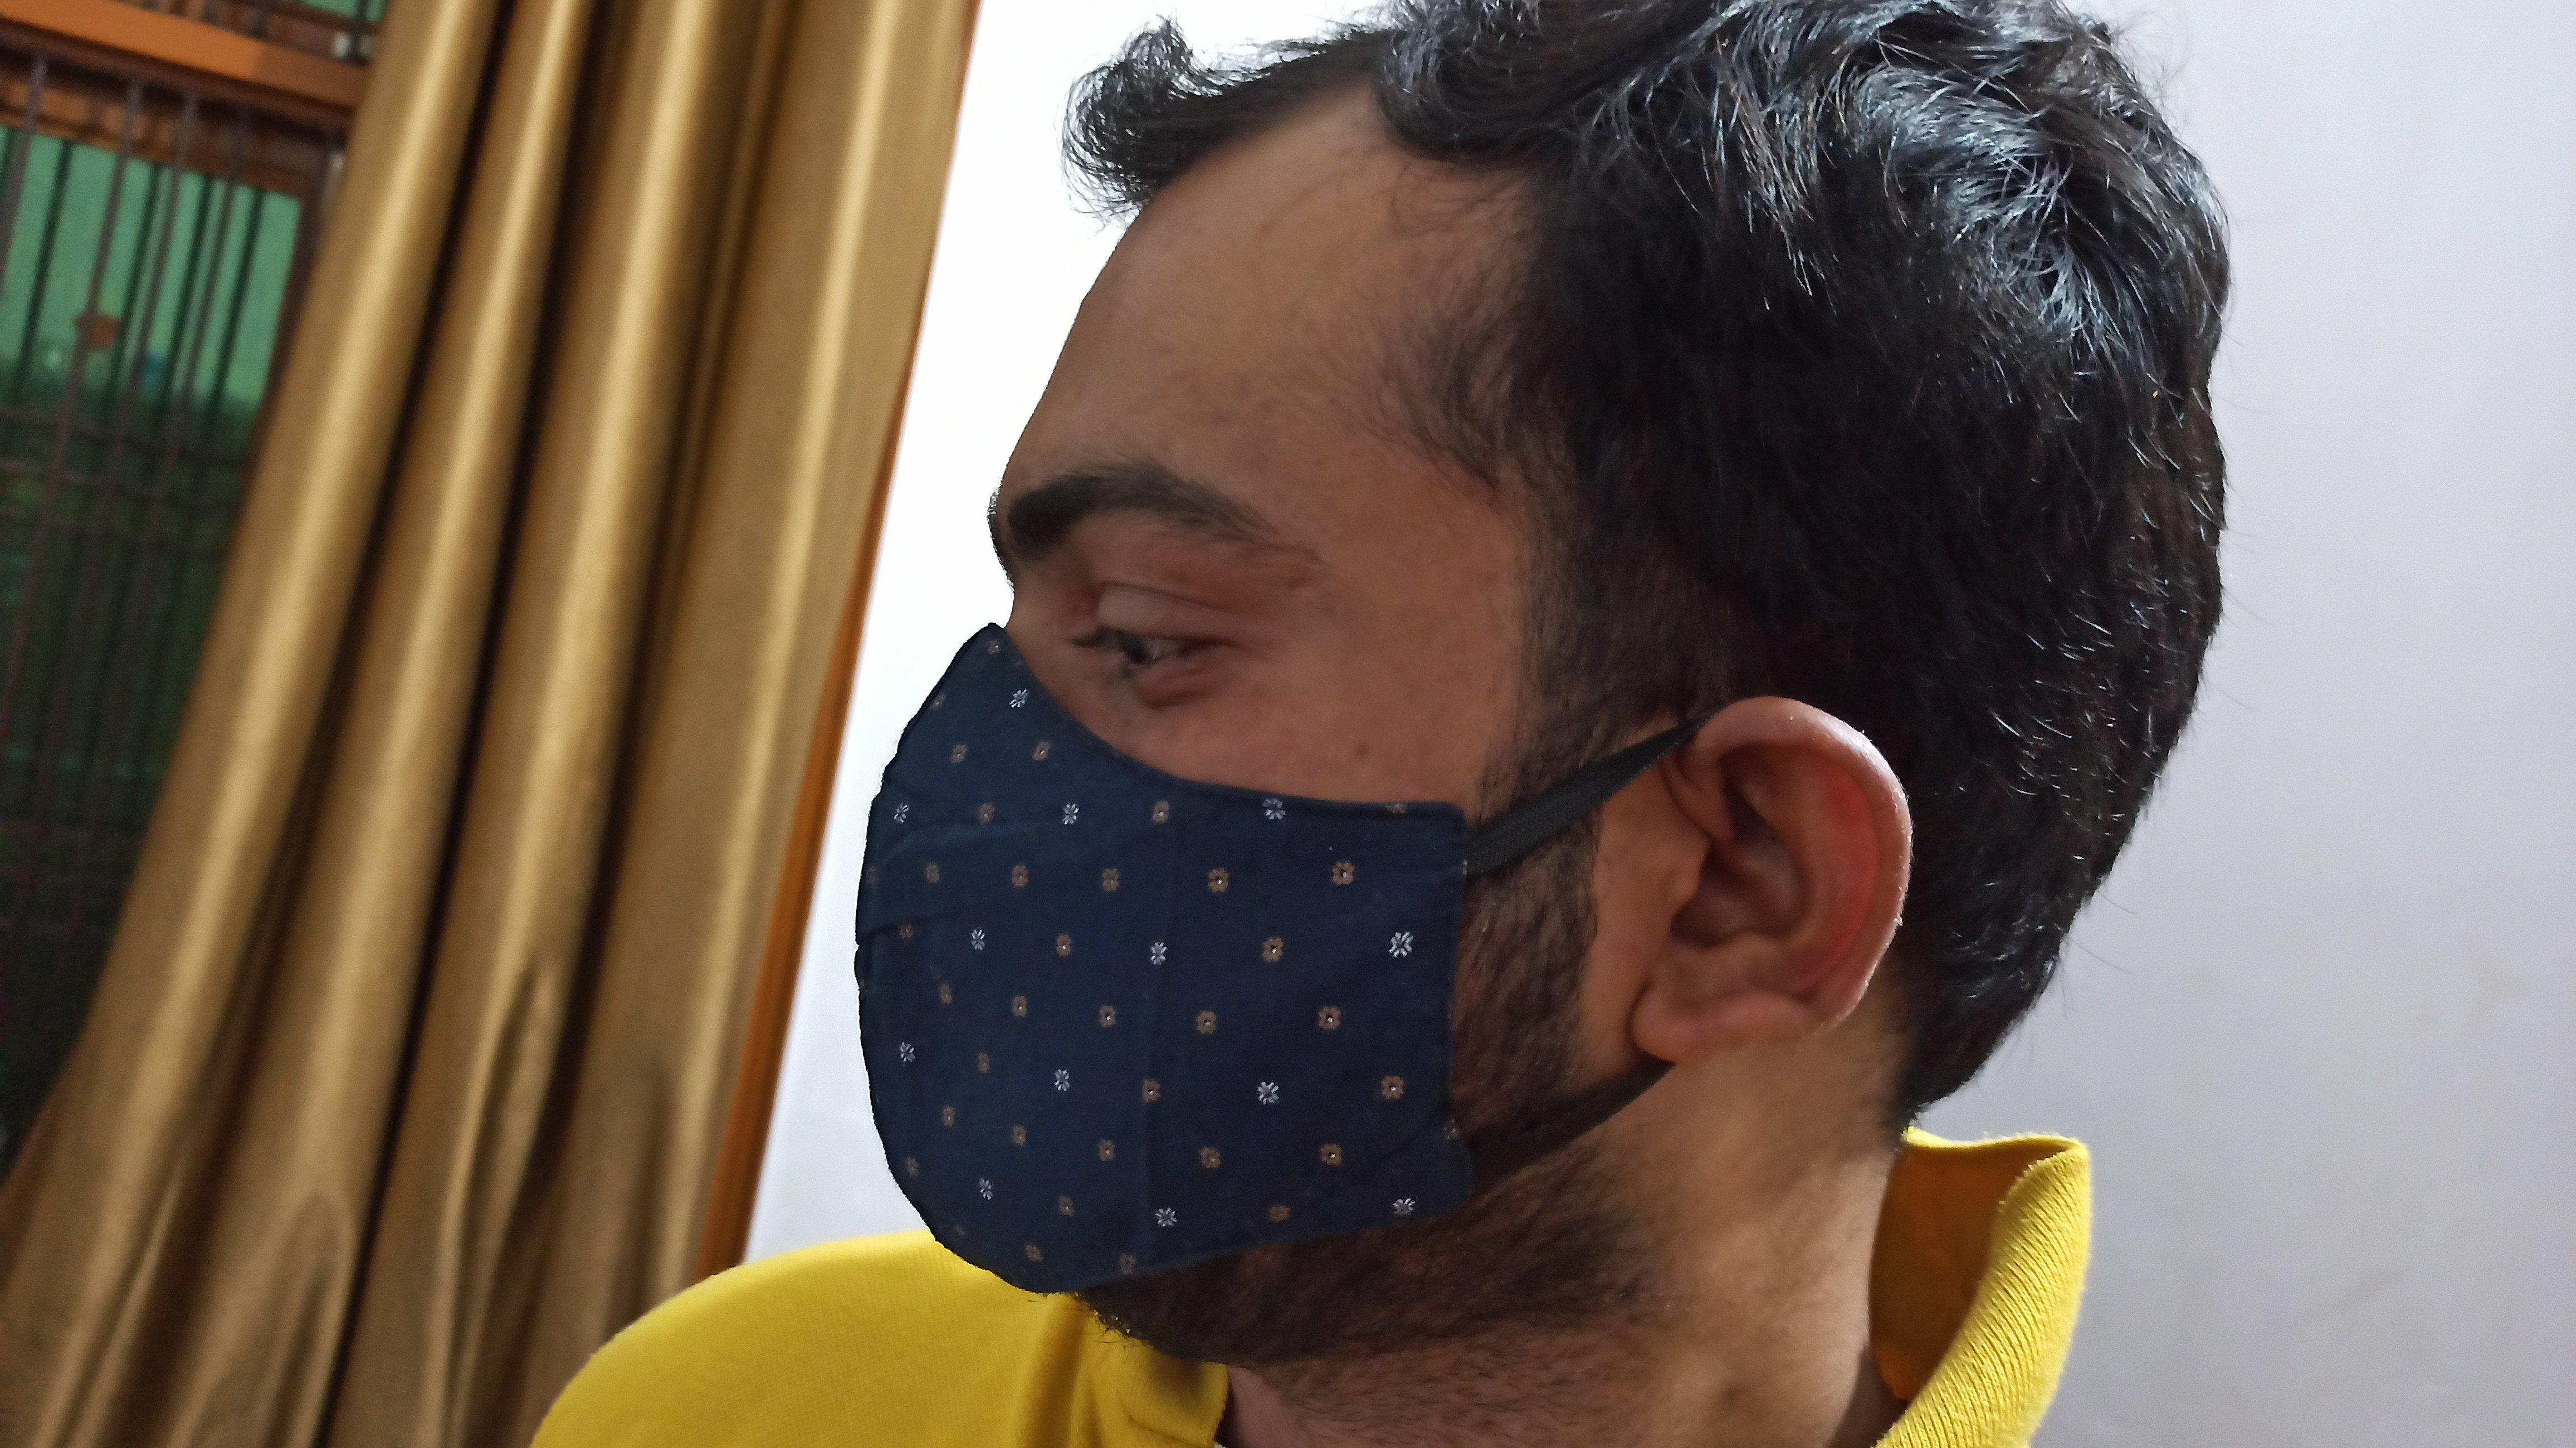Mask: (849, 619, 2019, 1317)
